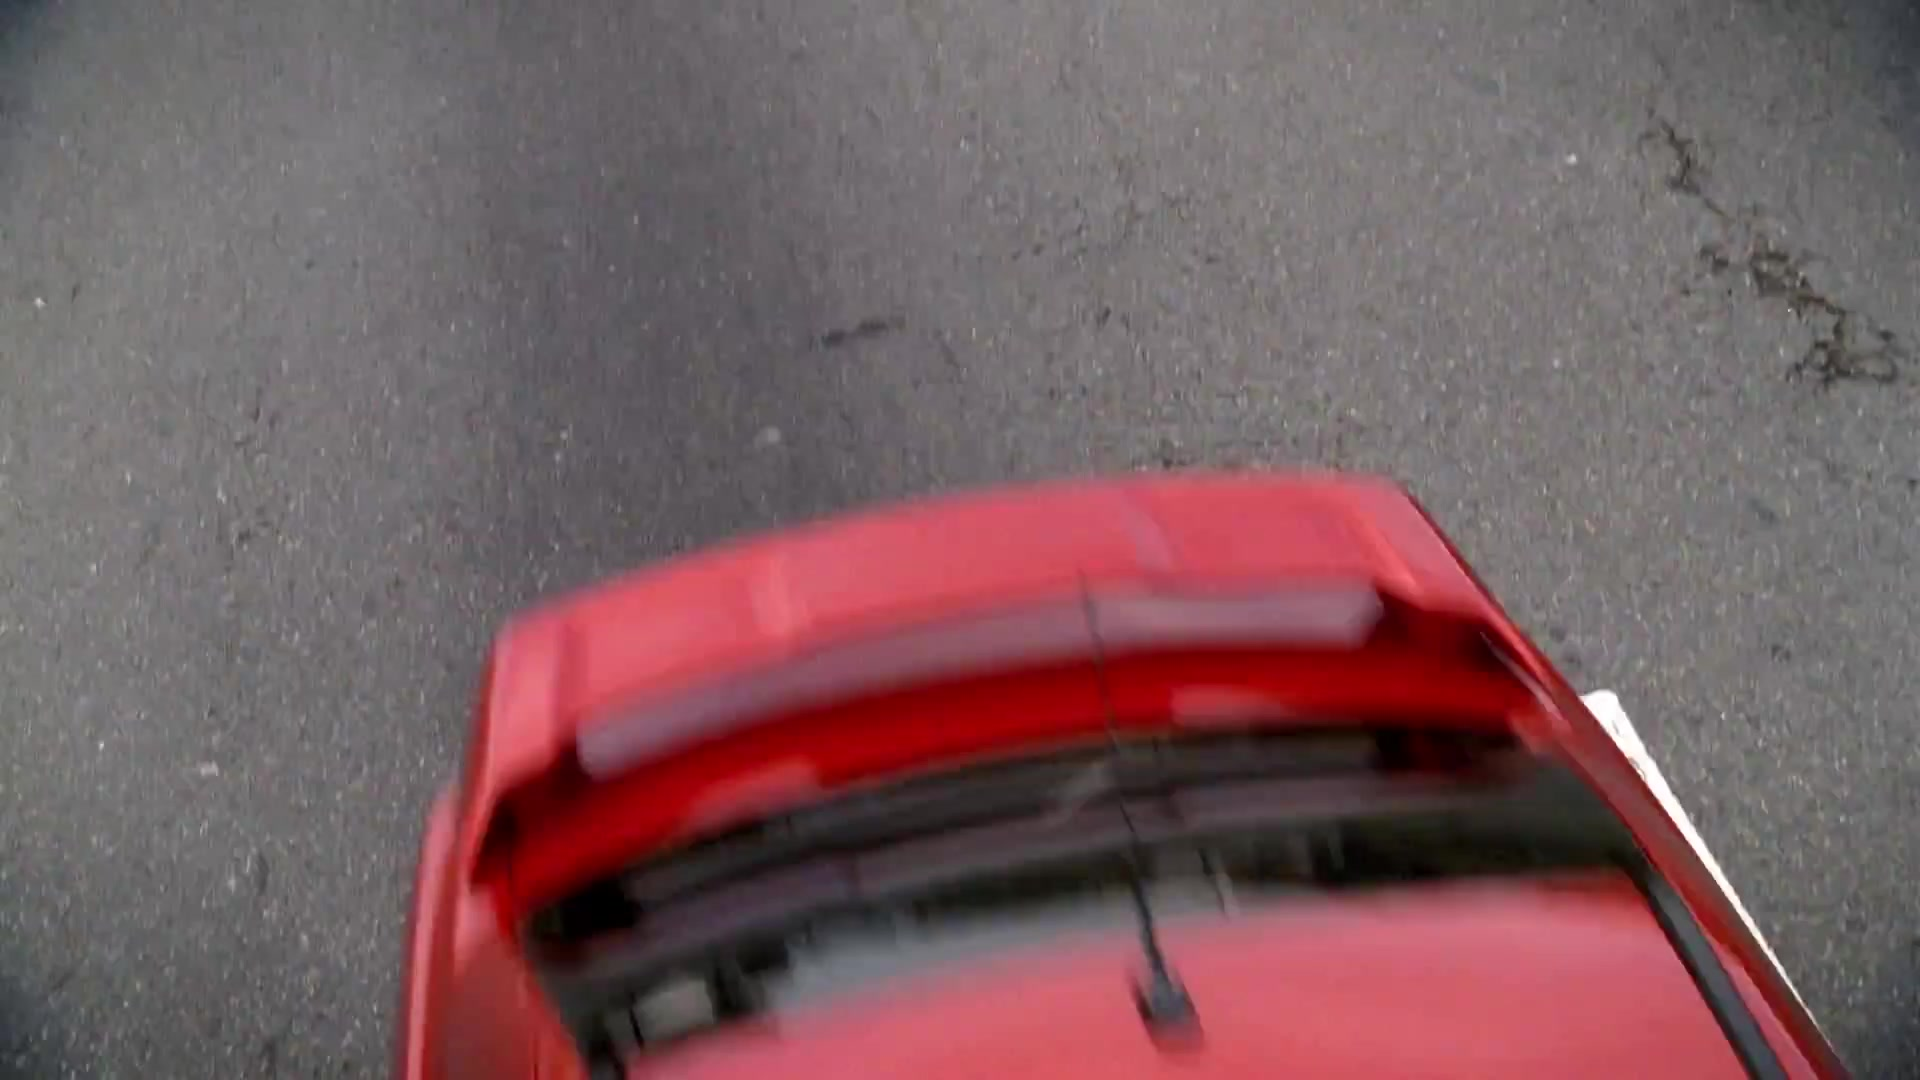car: (386, 455, 1867, 1080)
